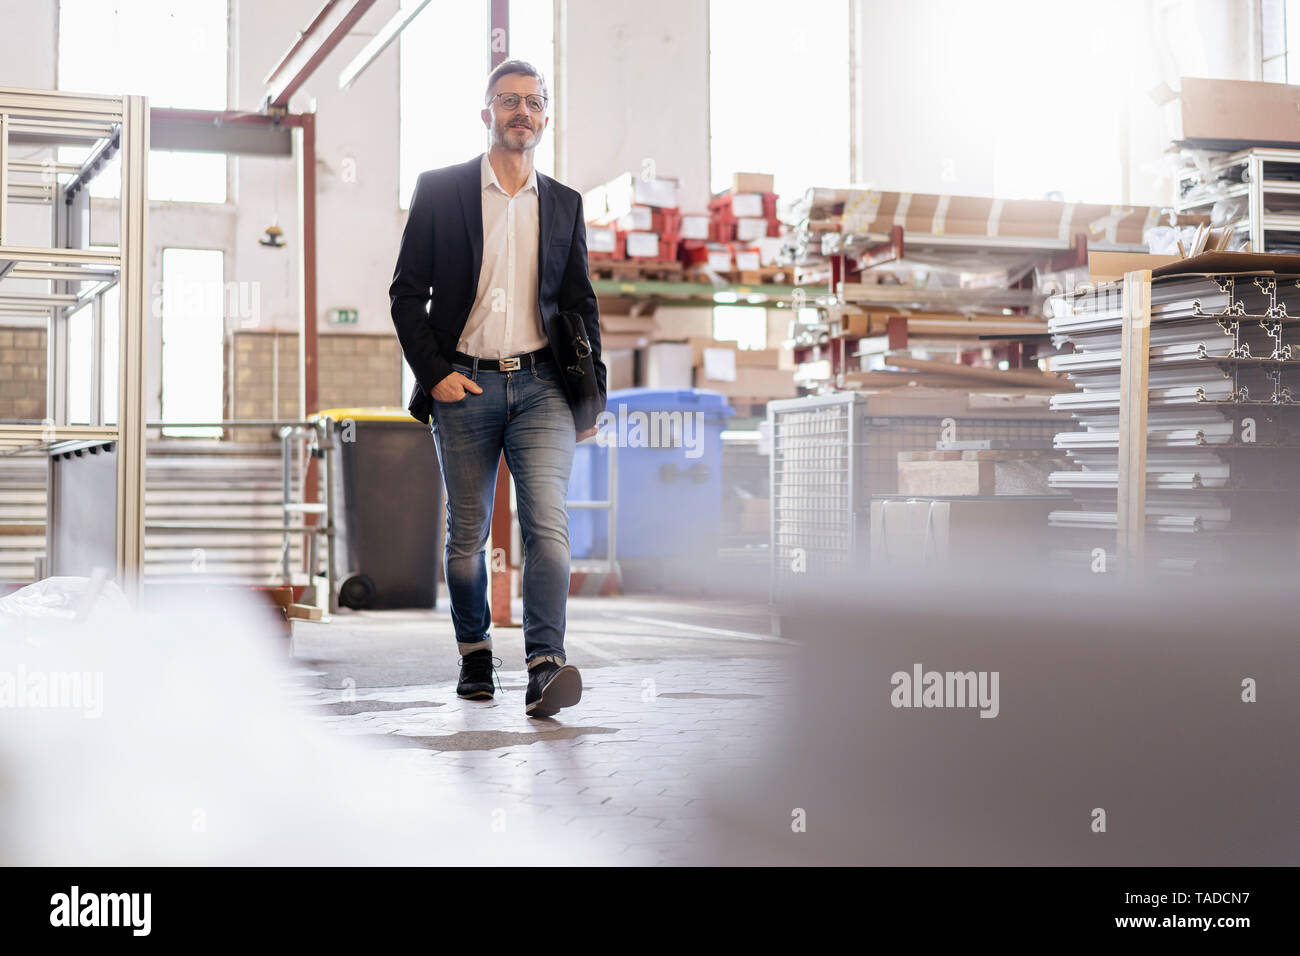person: (390, 58, 602, 716)
